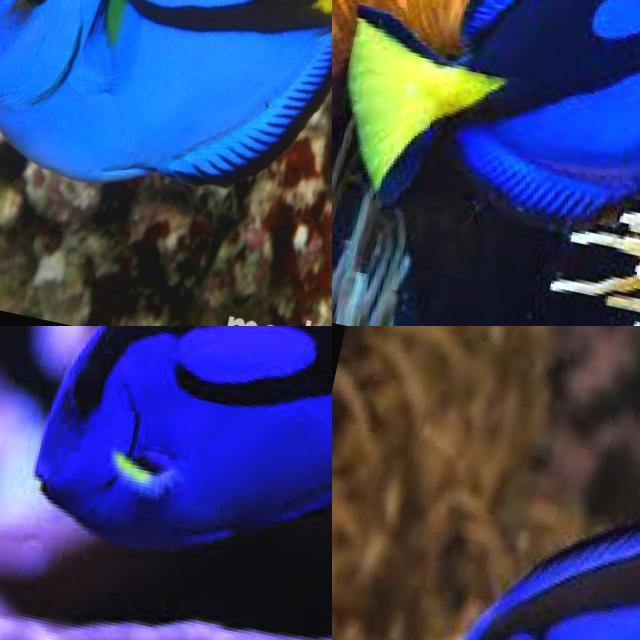BlueTang: (347, 0, 640, 228), (36, 326, 333, 539), (0, 0, 332, 178)
